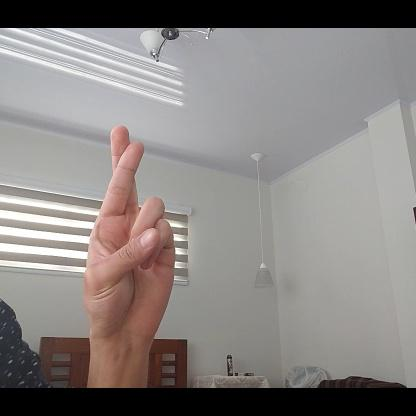R: (85, 125, 177, 345)
